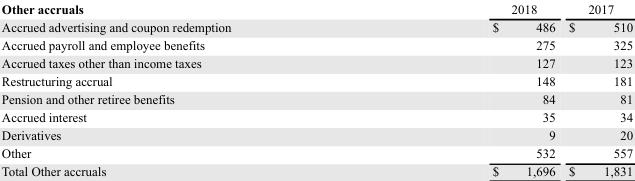table: (0, 1, 632, 178)
table column: (0, 1, 361, 178), (361, 1, 561, 178), (561, 1, 632, 178)
table column header: (0, 1, 632, 17)
table row: (0, 143, 632, 162), (0, 17, 632, 35), (0, 35, 632, 53), (0, 53, 632, 71), (0, 71, 632, 89), (0, 89, 632, 107), (0, 107, 632, 125), (0, 125, 632, 143), (0, 1, 632, 17), (0, 162, 632, 178)
